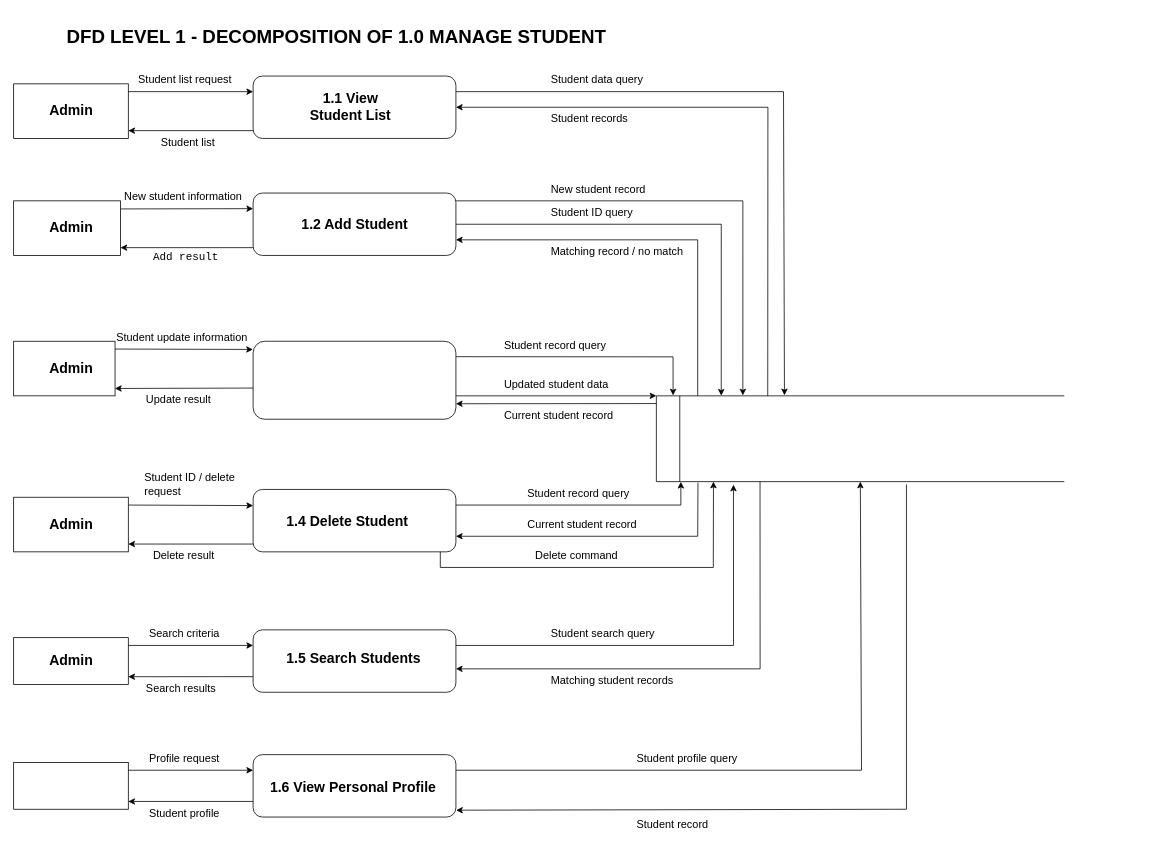
Image size: 1170x857. Some labels were removed from this diagram. Each missing label, with the box of its shape:
1.3 Update Student: (252, 340, 456, 419)
D2 Student Data: (656, 395, 1064, 482)
Student: (13, 762, 128, 809)
